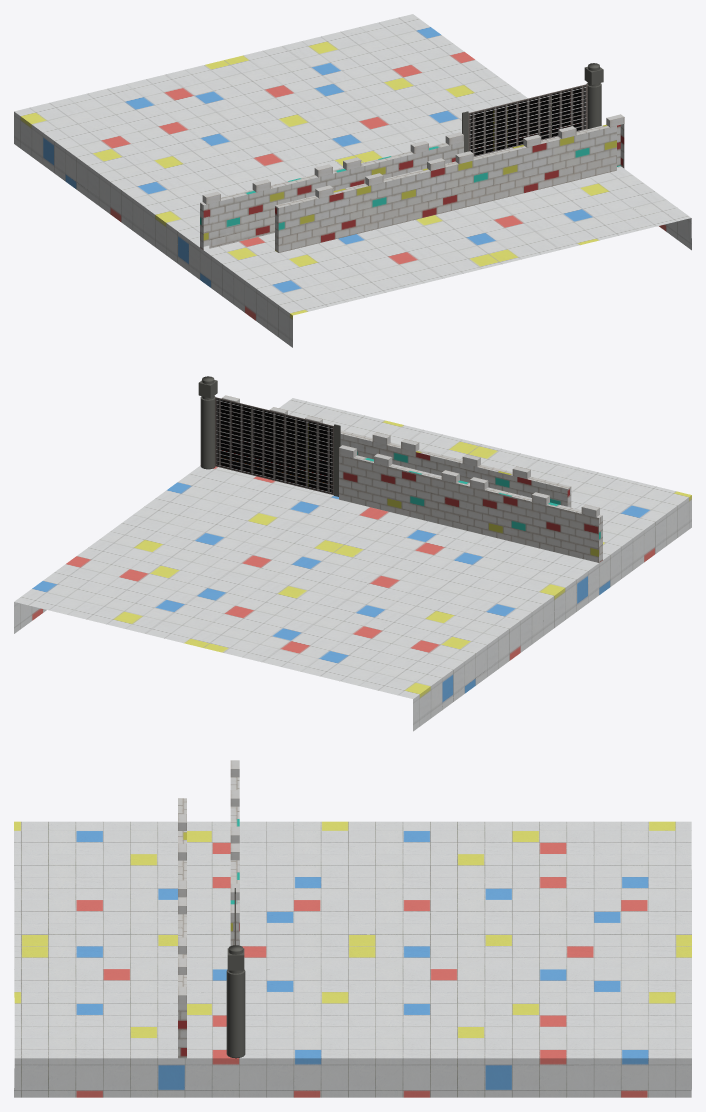
File: san.fbx
3 renders of one model, top to bottom at view 1: azimuth 30°, elevation 25°; view 2: azimuth 150°, elevation 25°; view 3: azimuth 270°, elevation 25°, orthographic. The views are drawn at different scales.
Visible parts, largest first — view 1: phong, tuong nho, cua sat, cot cua; view 2: phong, tuong nho, cua sat, cot cua; view 3: phong, tuong nho, cot cua.
Boxes of the visible parts, bbox=[...] form: phong: bbox=[14, 14, 691, 347]; tuong nho: bbox=[200, 114, 624, 252]; cua sat: bbox=[462, 84, 587, 156]; cot cua: bbox=[584, 63, 603, 128]; phong: bbox=[14, 398, 691, 731]; tuong nho: bbox=[221, 395, 602, 562]; cua sat: bbox=[215, 397, 340, 496]; cot cua: bbox=[198, 376, 217, 469]; phong: bbox=[14, 821, 691, 1097]; tuong nho: bbox=[178, 760, 239, 1058]; cot cua: bbox=[226, 945, 245, 1058].
Bounding box in the file's own units: 3463 × 992 × 4192.
4 materials, 3 textured.
